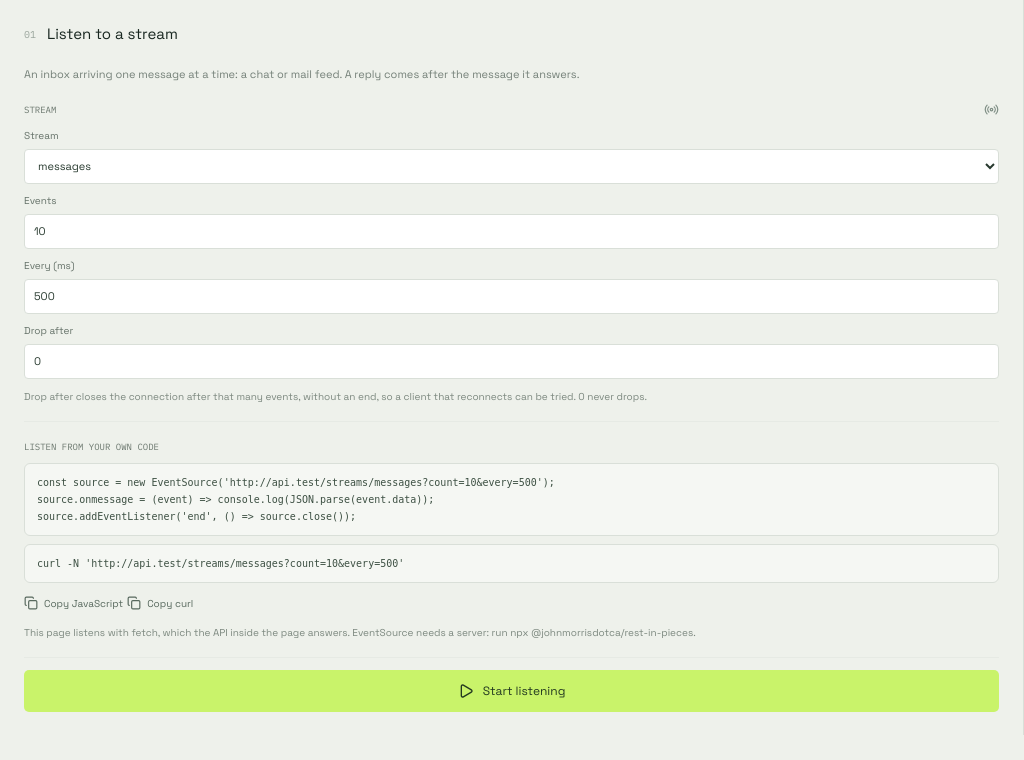
Test: the Streams tab › stops a stream that is flowing, and keeps what it received
The image size is (1024, 760).
Click the button with test id "stream-start" at {"x": 512, "y": 691}, box [24,670,999,712]
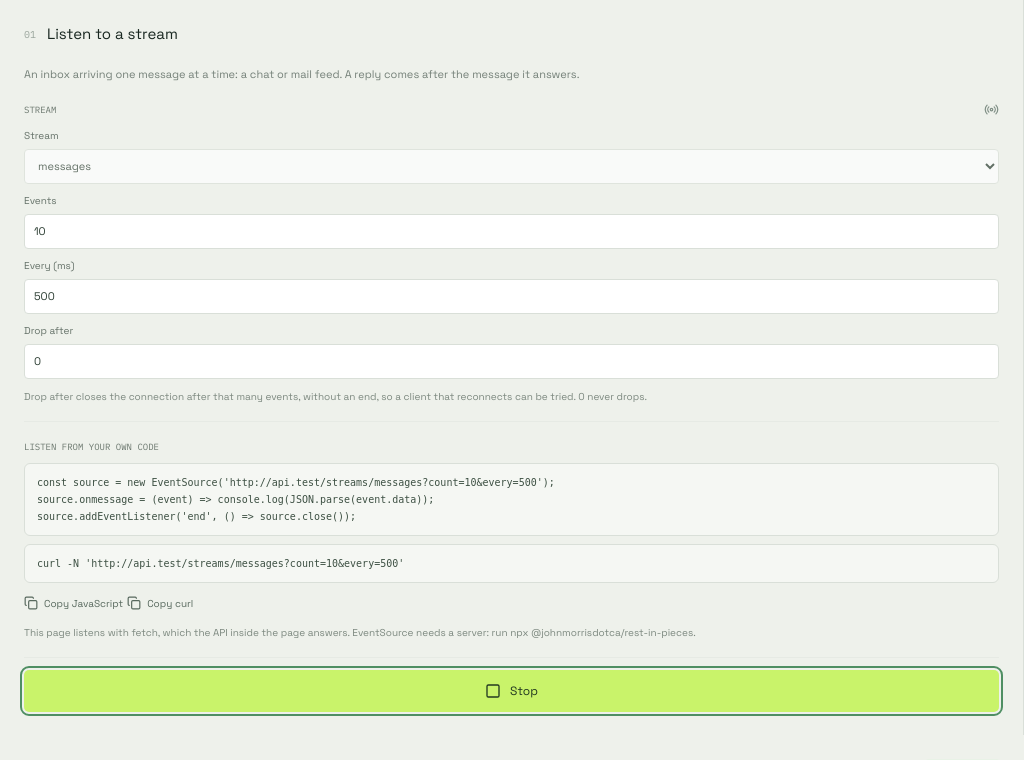
Result: the dropdown with test id "stream-name" is disabled at [24,148,999,184]
Click the button with test id "stream-stop" at {"x": 512, "y": 691}, box [24,670,999,712]
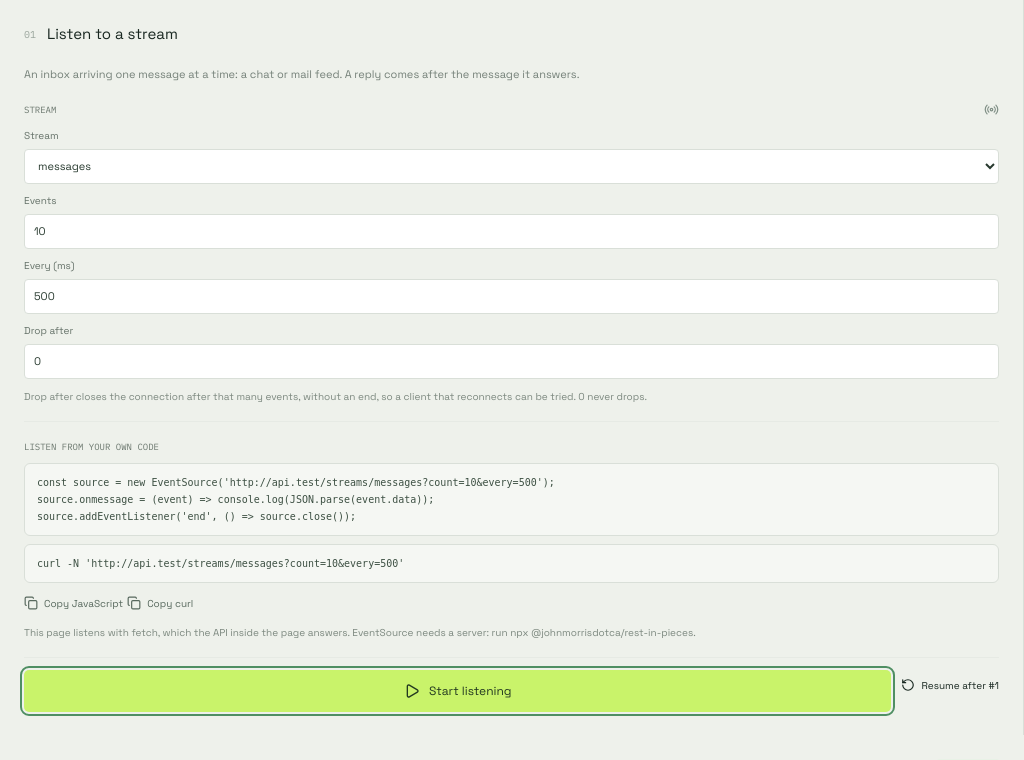
Result: the button with test id "stream-resume" is shown at [902,672,999,698]
